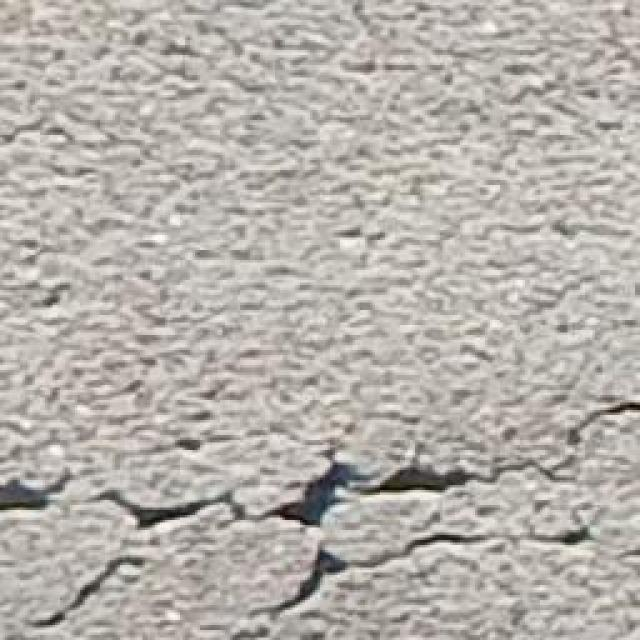concrete-crack: (0, 387, 640, 545), (279, 513, 598, 616)
